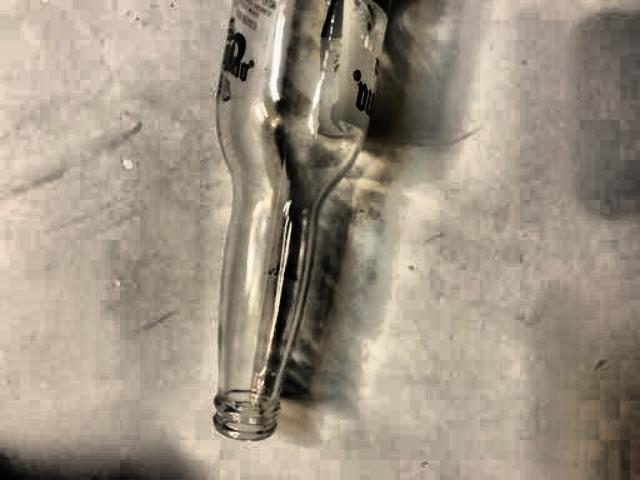Bottles: (194, 3, 413, 436)
